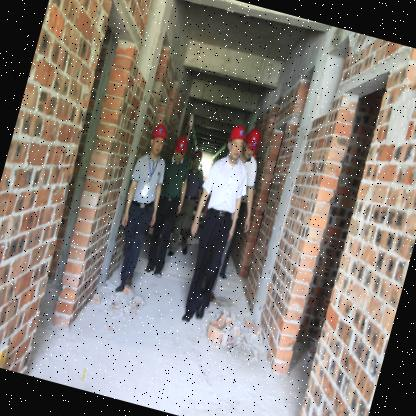capacete: (223, 122, 248, 161), (240, 126, 262, 162), (146, 123, 170, 155), (171, 134, 190, 163), (189, 148, 203, 171)
sem_colete_refletivo: (195, 150, 254, 222), (124, 148, 171, 206), (154, 153, 194, 203), (177, 164, 208, 204)
